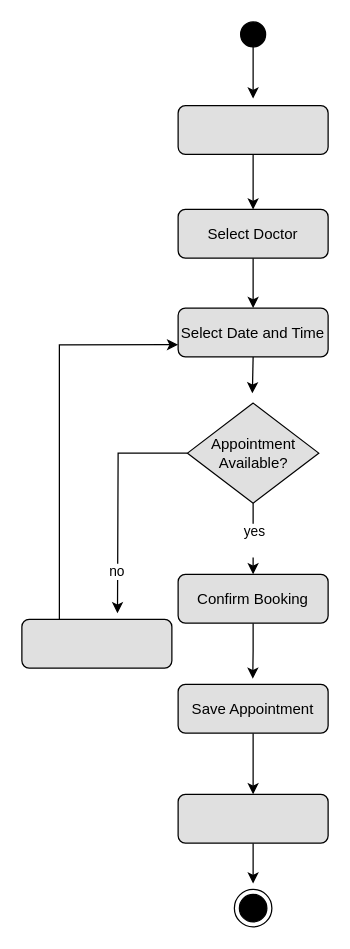
This 350x949 diagram has some shape labels left out. The box of each missing label's shape, as (x1, y1, x2, y2) in pixels:
Login / Register: (177, 104, 328, 154)
Select Another Time: (21, 618, 172, 668)
Send Confirmation: (177, 793, 328, 843)
